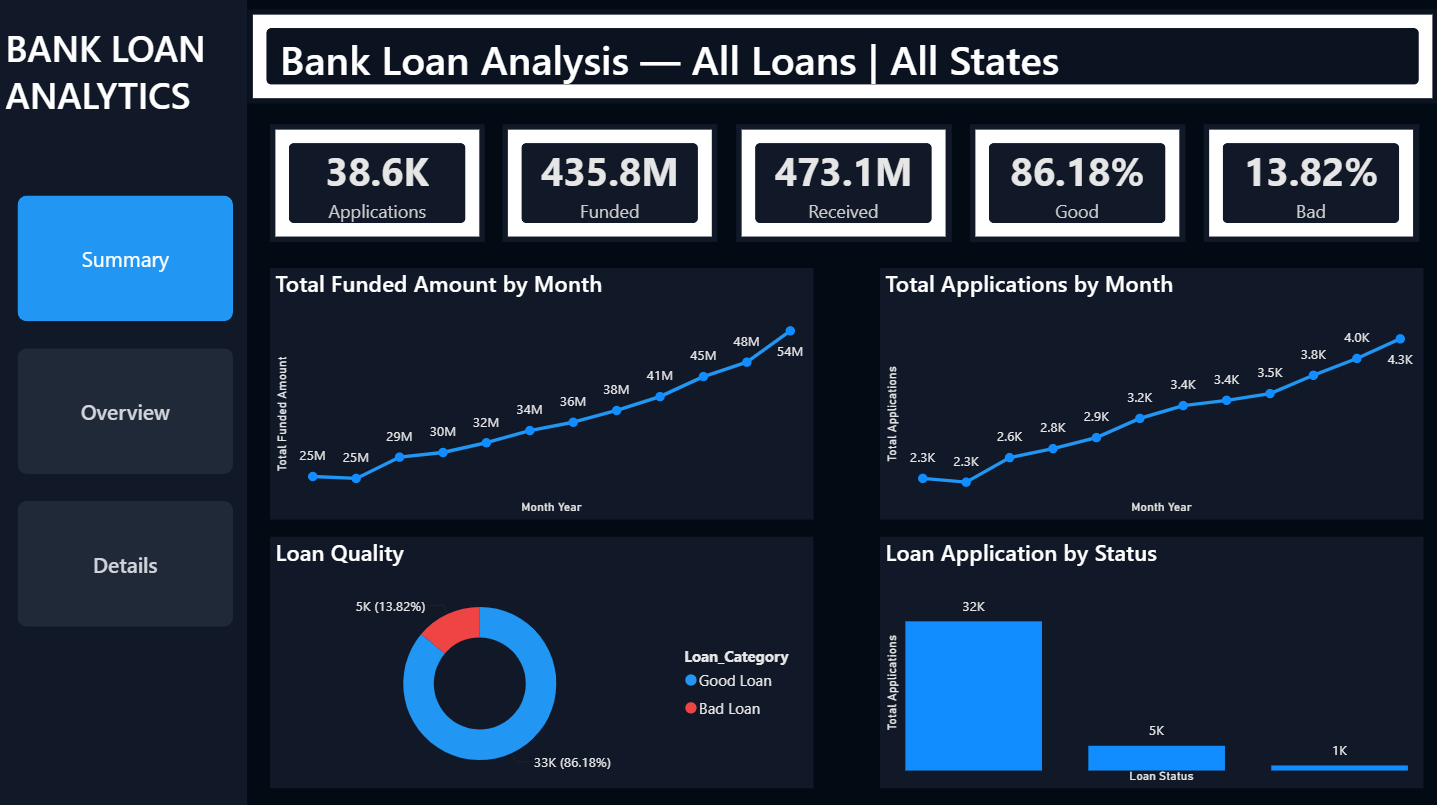

This screenshot's page, from the dashboard's own definition file:
{"tool":"powerbi","page":{"name":"Summary","canvas":[1280,720],"ordinal":0},"visuals":[{"type":"shape","box":[0,0,220,720],"z":0},{"type":"cardVisual","fields":{"Data":["_Measures.Dynamic Dashboard Title"]},"box":[220,10,1060,84],"z":1000},{"type":"cardVisual","fields":{"Data":["_Measures.Total Applications"]},"box":[240,112,191,105],"z":2000},{"type":"cardVisual","fields":{"Data":["_Measures.Total Funded Amount"]},"box":[448,112,191,105],"z":3000},{"type":"cardVisual","fields":{"Data":["_Measures.Total Amount Received"]},"box":[656,112,192,105],"z":4000},{"type":"cardVisual","fields":{"Data":["_Measures.Good Loan %"]},"box":[864,112,192,105],"z":5000},{"type":"cardVisual","fields":{"Data":["_Measures.Bad Loan %"]},"box":[1072,112,192,105],"z":6000},{"type":"lineChart","title":"Total Applications by Month ","fields":{"Category":["DateTable.Month Year"],"Y":["_Measures.Total Applications"]},"box":[784,240,484,224],"z":7000},{"type":"lineChart","title":"Total Funded Amount by Month ","fields":{"Category":["DateTable.Month Year"],"Y":["_Measures.Total Funded Amount"]},"box":[240,240,484,224],"z":8000},{"type":"donutChart","title":"Loan Quality","fields":{"Category":["financial_loan.Loan_Category"],"Y":["_Measures.Total Applications"]},"box":[240,480,484,224],"z":9000},{"type":"clusteredColumnChart","title":"Loan Application by Status","fields":{"Category":["financial_loan.loan_status"],"Y":["_Measures.Total Applications"]},"box":[784,480,484,224],"z":10000},{"type":"pageNavigator","box":[16,176,192,384],"z":11000},{"type":"textbox","box":[0,0,224,112],"z":12000}]}

Visuals, with their boxes in screenshot pixels (x1, y1, x2, y2), scaled from the page's 1280x720 canvas onto the 1437x805 screenshot:
shape: pyautogui.locateOnScreen(0, 0, 247, 804)
cardVisual - _Measures.Dynamic Dashboard Title: pyautogui.locateOnScreen(247, 11, 1436, 105)
cardVisual - _Measures.Total Applications: pyautogui.locateOnScreen(269, 125, 484, 243)
cardVisual - _Measures.Total Funded Amount: pyautogui.locateOnScreen(503, 125, 717, 243)
cardVisual - _Measures.Total Amount Received: pyautogui.locateOnScreen(736, 125, 952, 243)
cardVisual - _Measures.Good Loan %: pyautogui.locateOnScreen(970, 125, 1186, 243)
cardVisual - _Measures.Bad Loan %: pyautogui.locateOnScreen(1203, 125, 1419, 243)
"Total Applications by Month " lineChart: pyautogui.locateOnScreen(880, 268, 1424, 519)
"Total Funded Amount by Month " lineChart: pyautogui.locateOnScreen(269, 268, 813, 519)
"Loan Quality" donutChart: pyautogui.locateOnScreen(269, 537, 813, 787)
"Loan Application by Status" clusteredColumnChart: pyautogui.locateOnScreen(880, 537, 1424, 787)
pageNavigator: pyautogui.locateOnScreen(18, 197, 234, 626)
textbox: pyautogui.locateOnScreen(0, 0, 251, 125)
